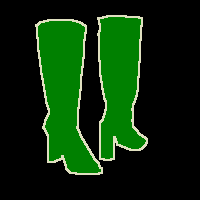shoe: (36, 20, 102, 174), (98, 16, 147, 160)
